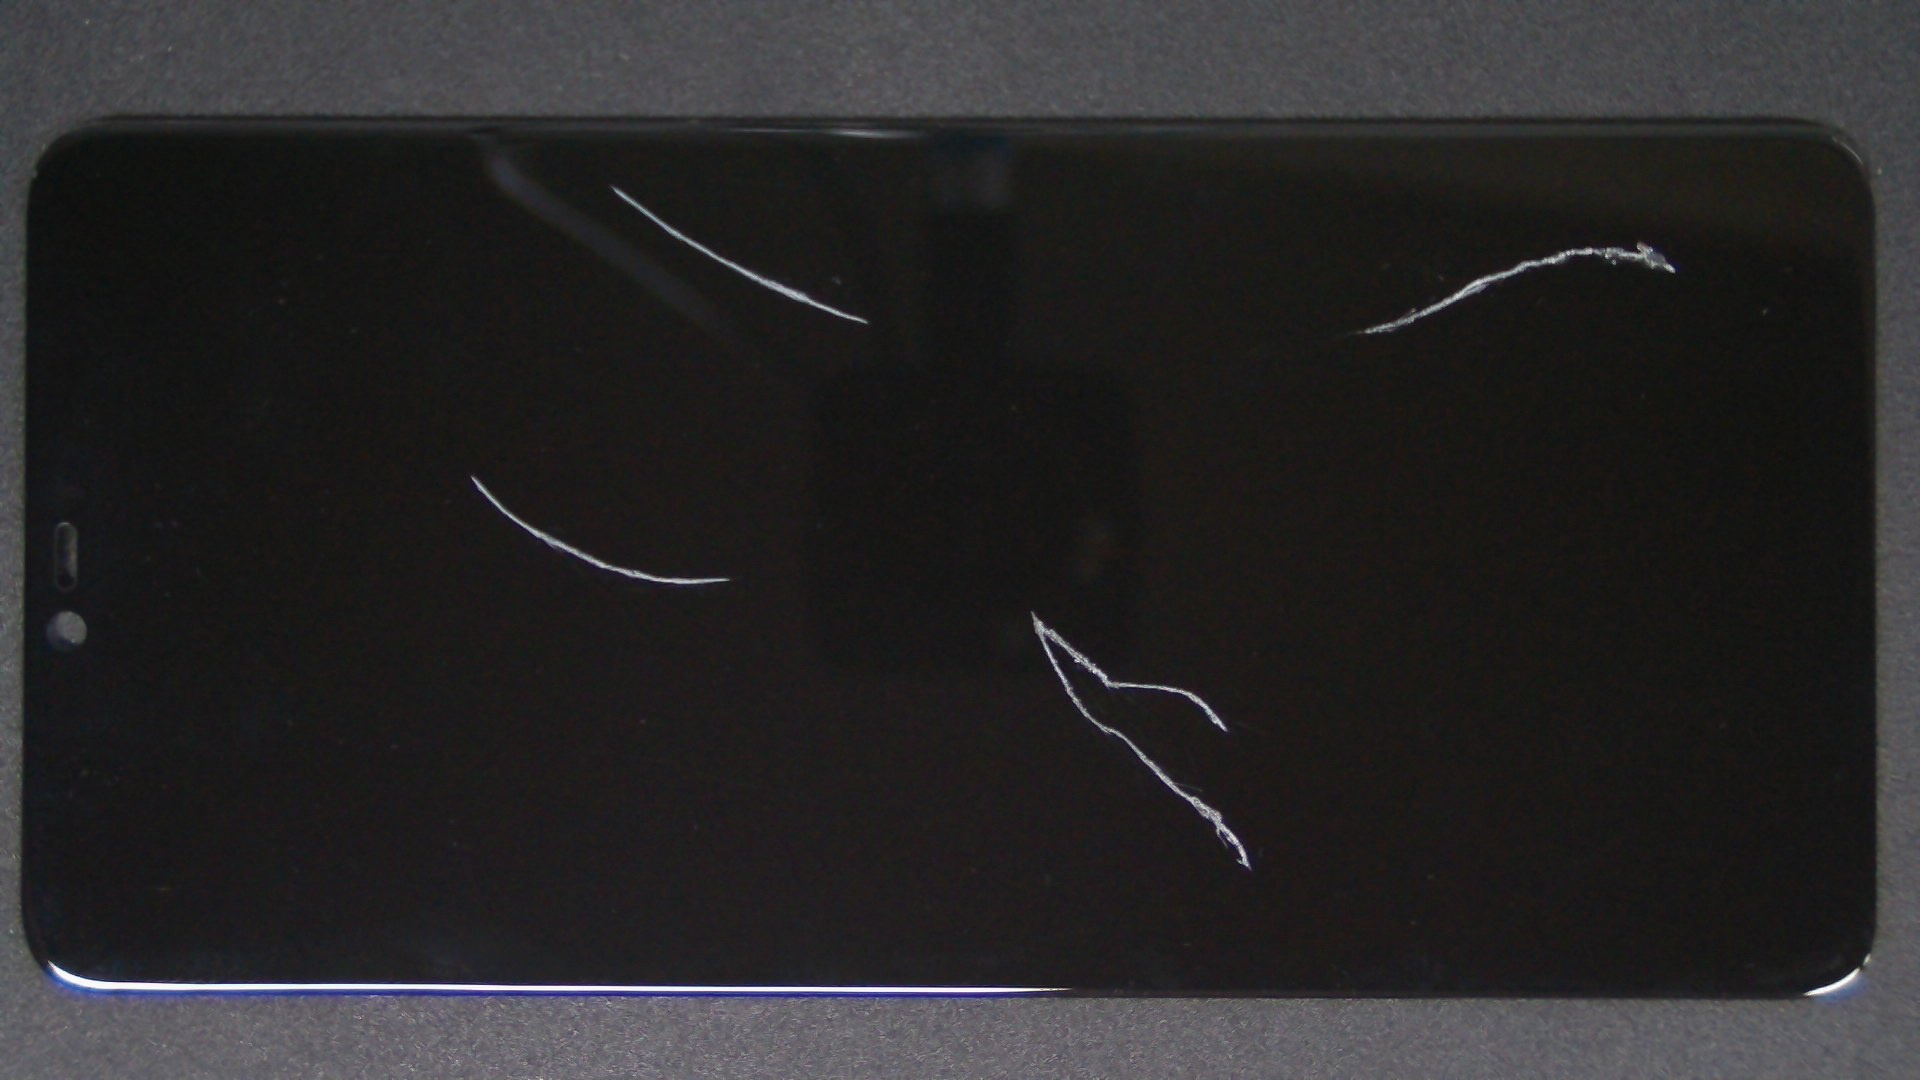oil: (516, 305, 1545, 914), (820, 119, 1920, 361), (235, 235, 705, 712), (306, 91, 915, 276)
